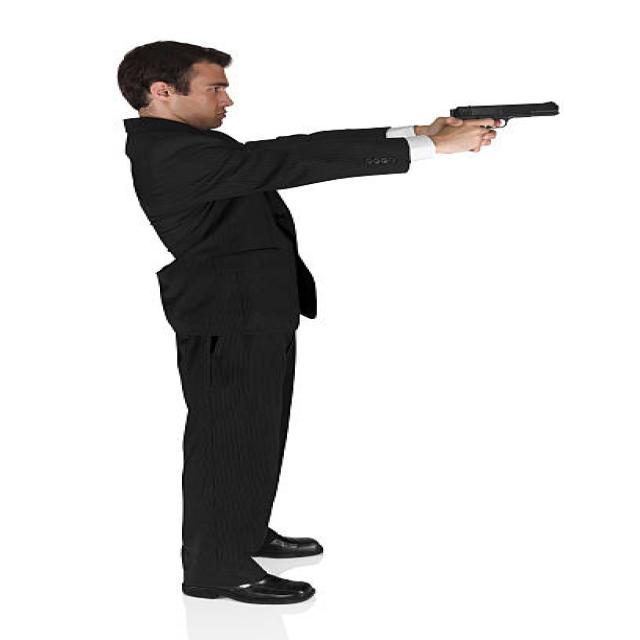HandGun: (450, 101, 558, 129)
